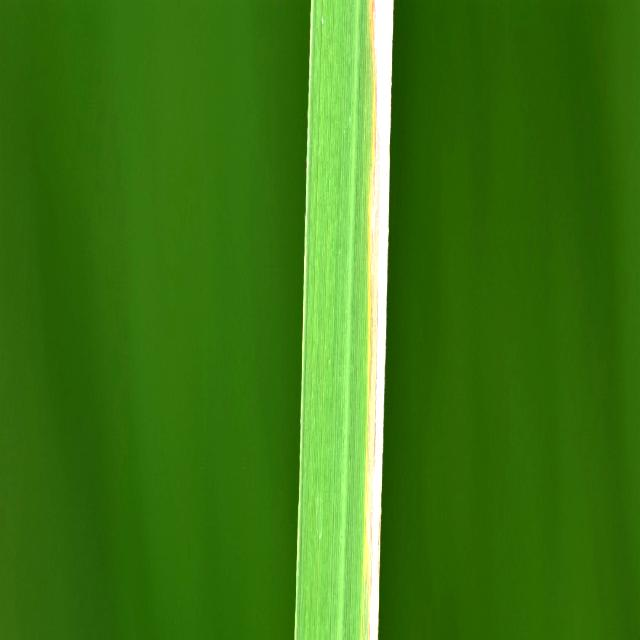BLB: (363, 2, 393, 640)
